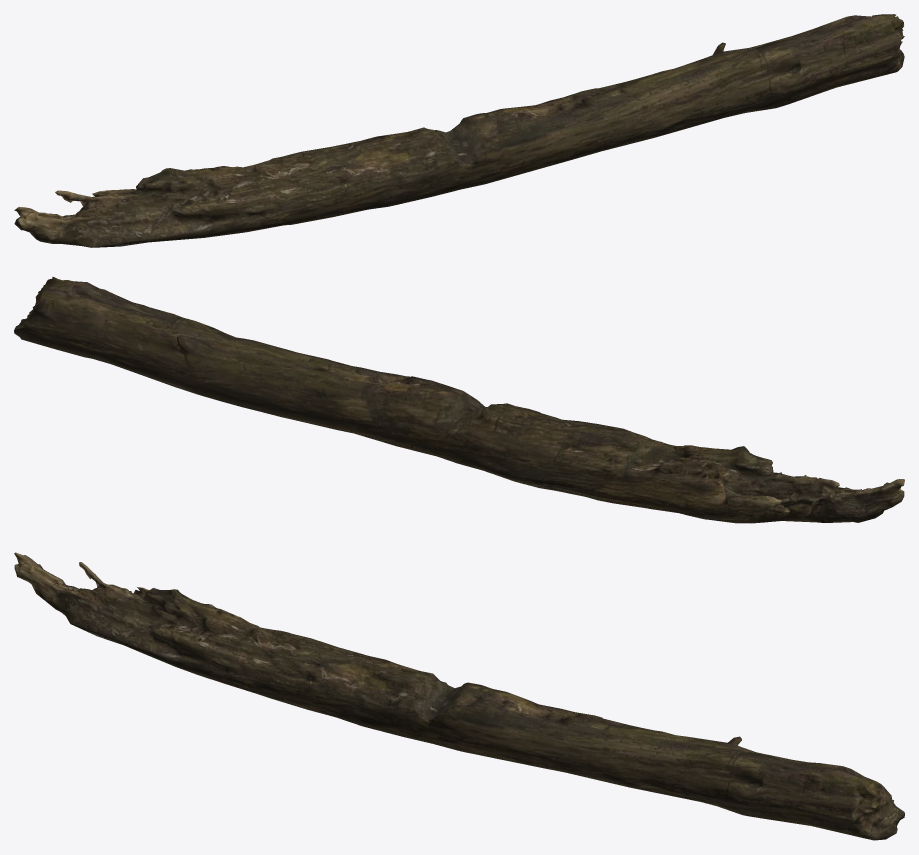
Rendered from dead_tree_trunk.glb.
3 views of the same model, one above another, from view 1: azimuth 30°, elevation 25°; view 2: azimuth 150°, elevation 25°; view 3: azimuth 330°, elevation 25° (orthographic).
Visible parts, largest first — view 1: dead_tree_trunk; view 2: dead_tree_trunk; view 3: dead_tree_trunk.
Boxes of the visible parts, x1=… form: dead_tree_trunk: x1=14, y1=14, x2=904, y2=247; dead_tree_trunk: x1=14, y1=277, x2=904, y2=523; dead_tree_trunk: x1=14, y1=552, x2=904, y2=840.
Size of the model in its own units: 3.05 by 0.2904 by 0.2773.
1 material, 1 textured.
